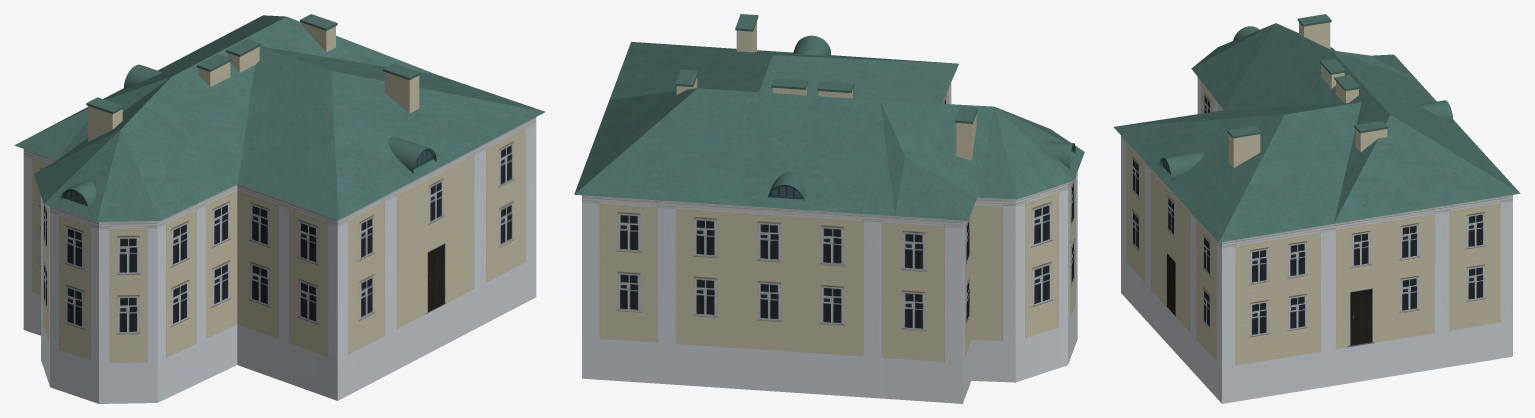
3 views of the same model, side by side, from view 1: azimuth 30°, elevation 25°; view 2: azimuth 150°, elevation 25°; view 3: azimuth 270°, elevation 25° (orthographic). The views are drawn at different scales.
Visible parts, largest first — view 1: Group_003, Group_005, Group_001, Group_009, Group_004, Group_012, Group_008, Group_019, Group_020, Group_017, Group_022, Group_013; view 2: Group_003, Group_007, Group_001, Group_009, Group_010, Group_008, Group_020, Group_017, Group_019, Group_015; view 3: Group_003, Group_006, Group_001, Group_005, Group_019, Group_017, Group_020, Group_012, Group_022, Group_013.
Part boxes in pixels (<box>): Group_003: <box>14,15,545,221</box>; Group_005: <box>337,117,536,359</box>; Group_001: <box>23,257,536,403</box>; Group_009: <box>41,196,157,363</box>; Group_004: <box>237,184,337,360</box>; Group_012: <box>157,185,237,361</box>; Group_008: <box>23,149,56,294</box>; Group_019: <box>384,72,419,113</box>; Group_020: <box>88,106,122,141</box>; Group_017: <box>388,137,436,173</box>; Group_022: <box>301,22,335,52</box>; Group_013: <box>124,64,161,88</box>; Group_003: <box>574,42,1084,220</box>; Group_007: <box>582,195,962,362</box>; Group_001: <box>582,299,1077,403</box>; Group_009: <box>1015,172,1077,341</box>; Group_010: <box>971,197,1015,341</box>; Group_008: <box>962,214,971,362</box>; Group_020: <box>956,114,976,160</box>; Group_017: <box>793,35,830,55</box>; Group_019: <box>736,22,756,52</box>; Group_015: <box>1047,141,1075,168</box>; Group_003: <box>1113,23,1520,242</box>; Group_006: <box>1222,195,1512,367</box>; Group_001: <box>1121,257,1512,403</box>; Group_005: <box>1121,136,1221,367</box>; Group_019: <box>1228,134,1260,167</box>; Group_017: <box>1159,151,1203,180</box>; Group_020: <box>1299,22,1330,49</box>; Group_012: <box>1197,77,1223,113</box>; Group_022: <box>1355,129,1387,152</box>; Group_013: <box>1421,100,1453,122</box>.
Bounding box in the file's own units: 24.27 × 12.46 × 20.43.
Materials: 13 (12 with a texture image).
